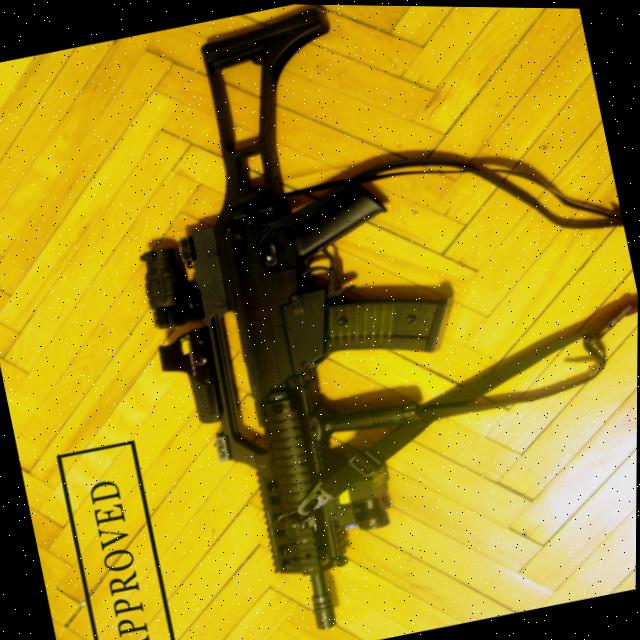firearm: (88, 1, 513, 640)
